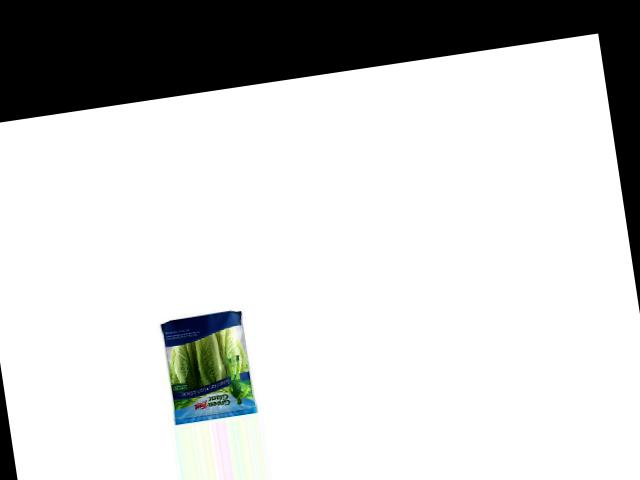lettuce: (158, 304, 258, 420)
